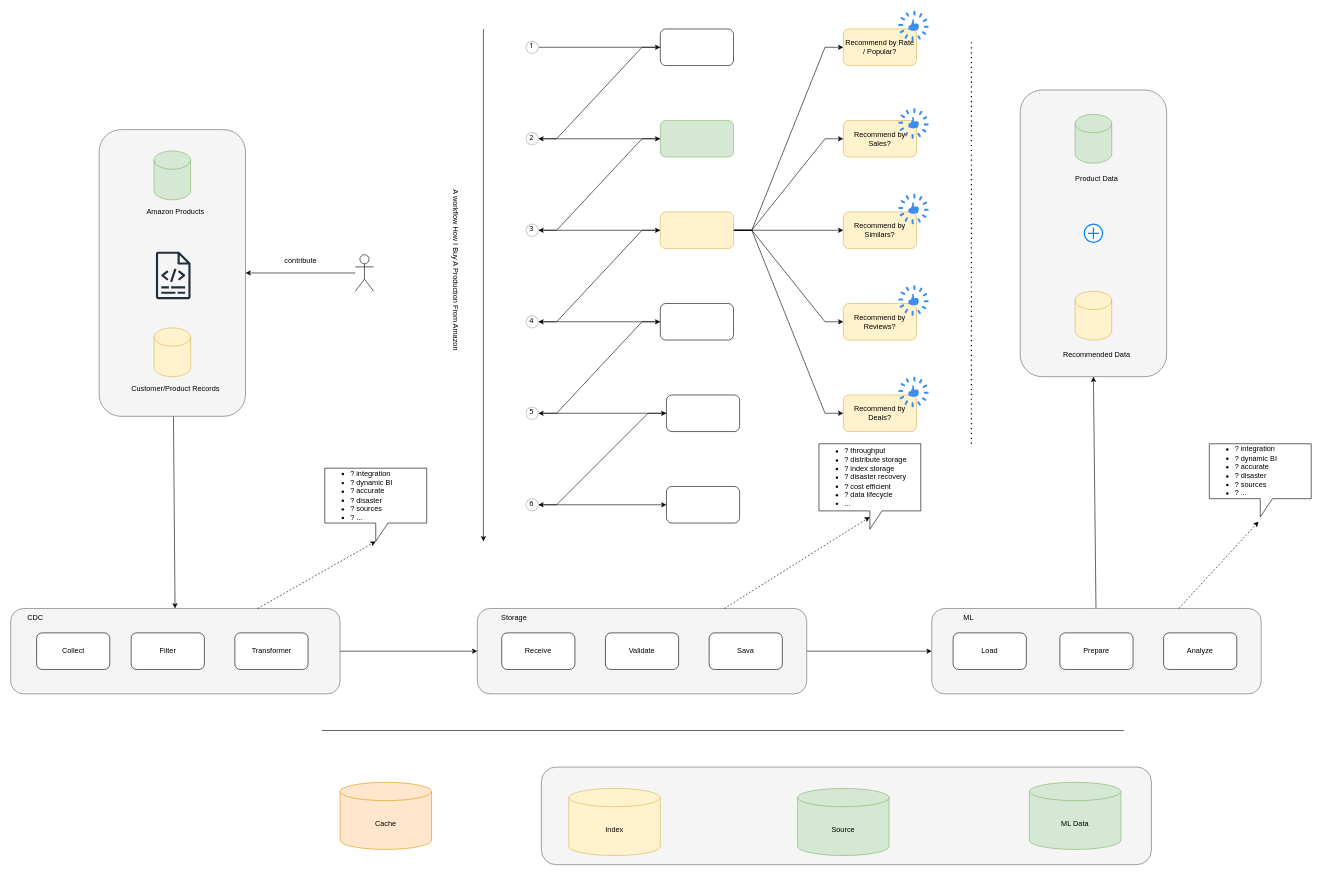
This 1322x875 diagram has some shape labels left out. The shapes that lost their labels are listed below. From the top down, each one's centre as x and y in pixels, then its label:
pixel 697 47: Amazon
pixel 697 138: Search By Key/Name
pixel 697 230: Choose From List
pixel 173 275: Activity Logs
pixel 364 272: Me
pixel 697 321: Place An Order
pixel 703 413: Shipping
pixel 703 504: Delivery
